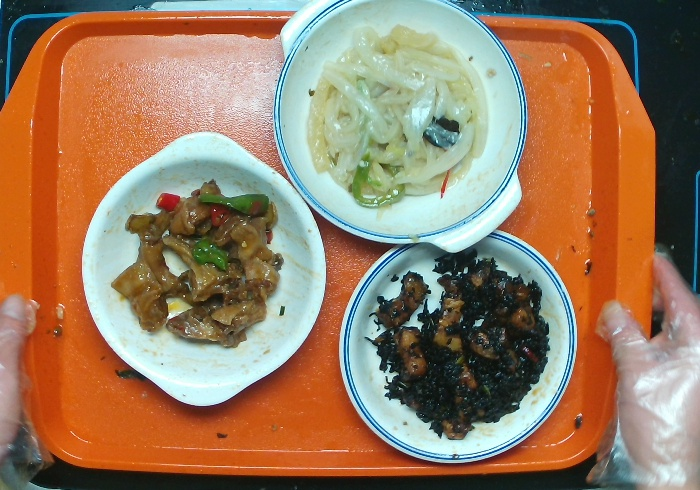HZYJPL-Dai_Er_Bai_Yuan_Wan: (78, 128, 329, 412)
HZYJPL-Lan_Bian_Dai_Er_Wan: (269, 1, 531, 256)
HZYJPL-Lan_Bian_Yuan_Die: (334, 225, 581, 469)
